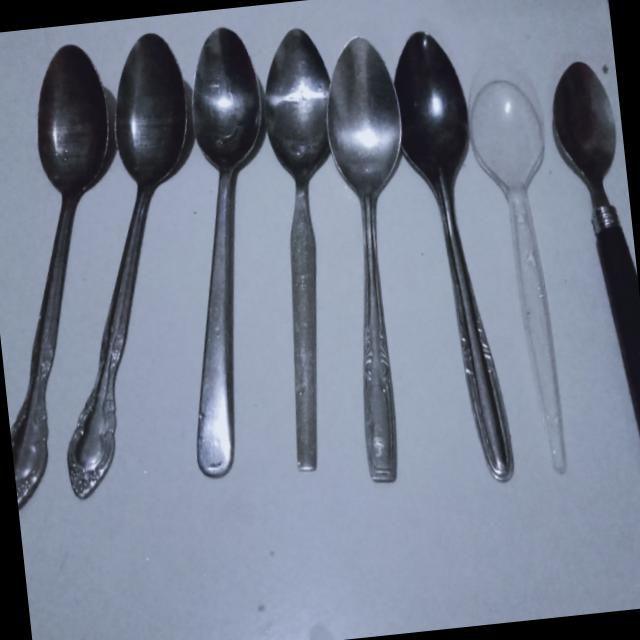spoon: (153, 20, 300, 517), (453, 65, 581, 495)
